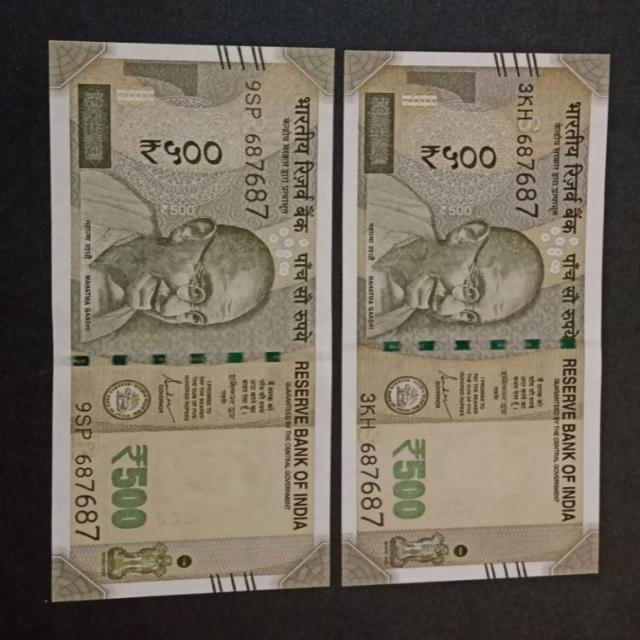500IndianRupees: (342, 55, 603, 577)
